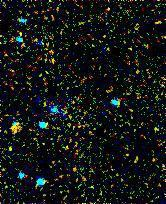star: (0, 114, 30, 144)
